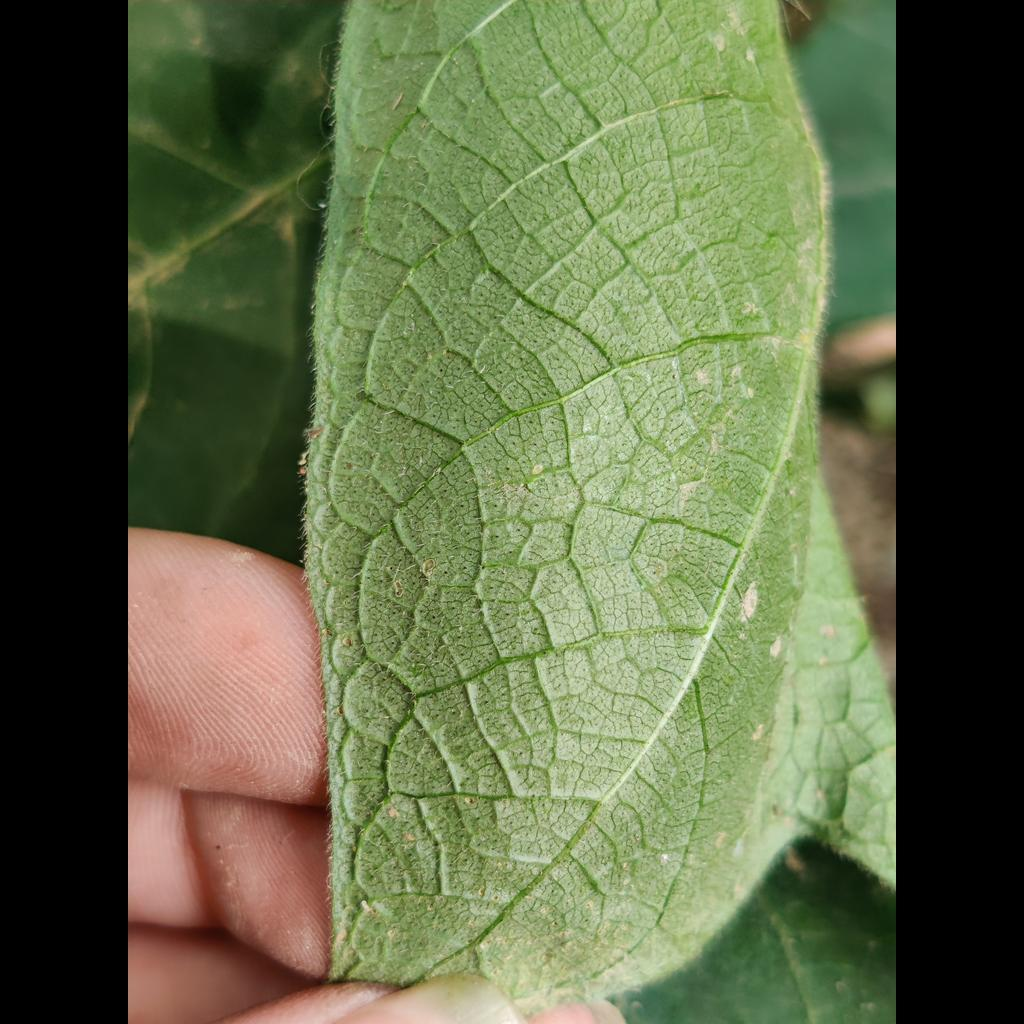nymph: (532, 464, 543, 475), (661, 854, 668, 860)
